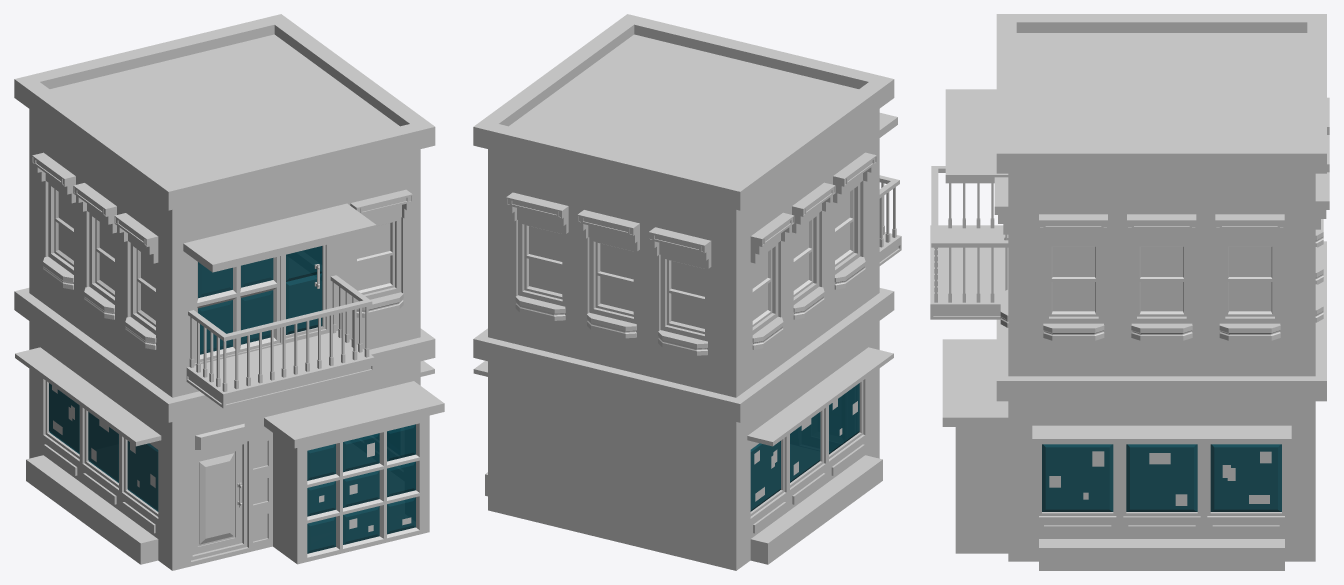
File: shop_06_medium.fbx
3 renders of one model, left to right at view 1: azimuth 30°, elevation 25°; view 2: azimuth 150°, elevation 25°; view 3: azimuth 270°, elevation 25°, orthographic. The views are drawn at different scales.
Visible parts, largest first — view 1: shop_06_medium, shop_06_medium_glass; view 2: shop_06_medium, shop_06_medium_glass; view 3: shop_06_medium, shop_06_medium_glass.
Part boxes in pixels (x1,y1,x2,y2): shop_06_medium: (14, 14, 444, 570); shop_06_medium_glass: (49, 246, 415, 553); shop_06_medium: (473, 14, 901, 570); shop_06_medium_glass: (750, 383, 859, 511); shop_06_medium: (930, 14, 1329, 570); shop_06_medium_glass: (1042, 444, 1281, 511).
Bounding box in the file's own units: 723 × 890 × 780.
